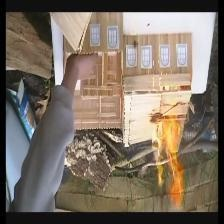fire: (149, 120, 189, 195)
